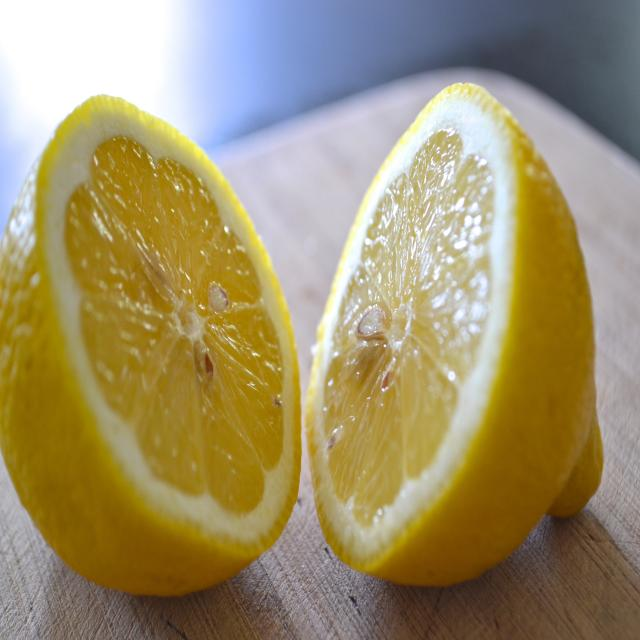lemon: (307, 78, 611, 591), (0, 91, 302, 593)
